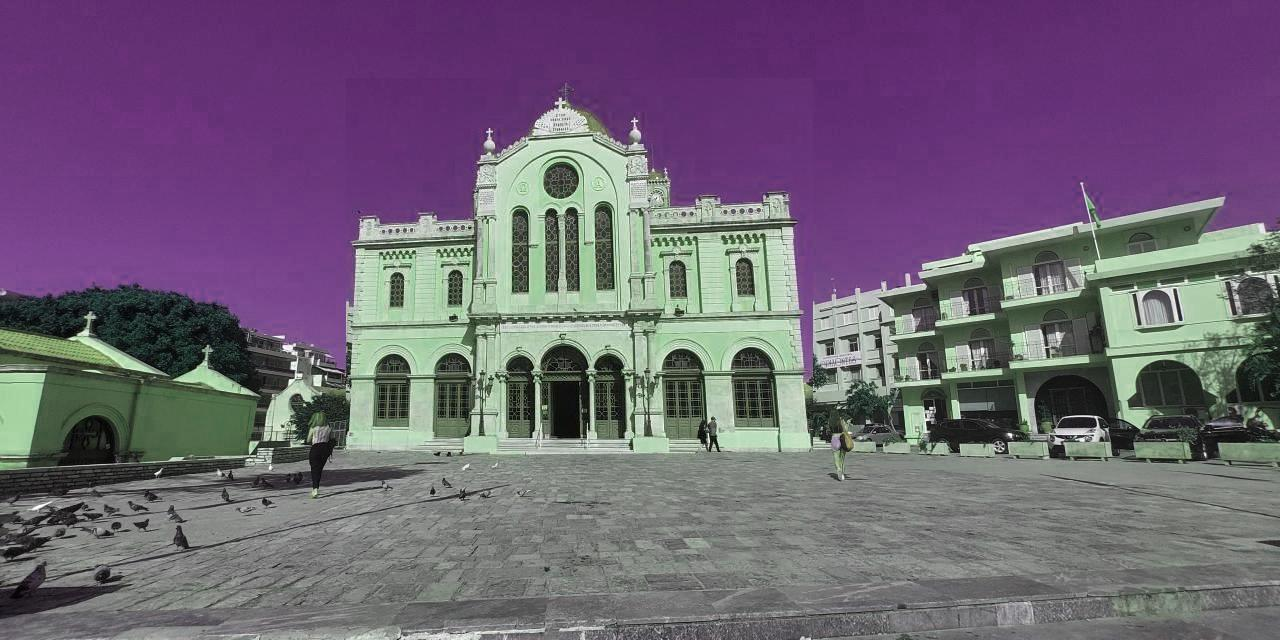Agios Minas: (347, 79, 814, 453)
